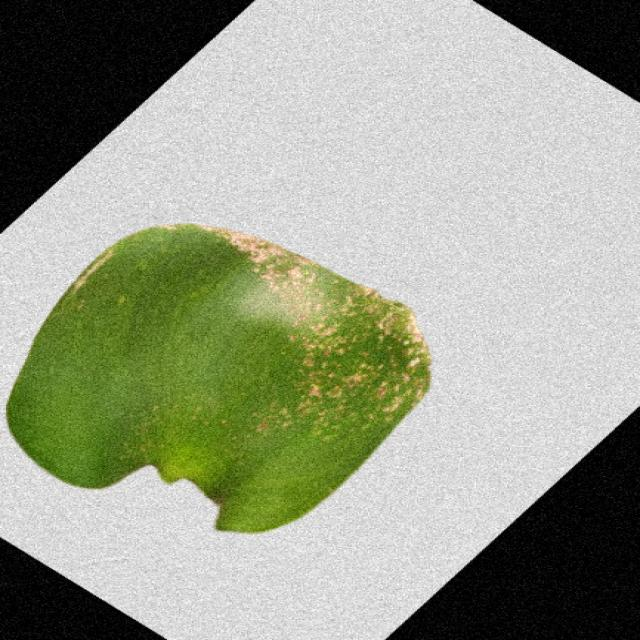daun berpenyakit bercak: (7, 224, 428, 532)
